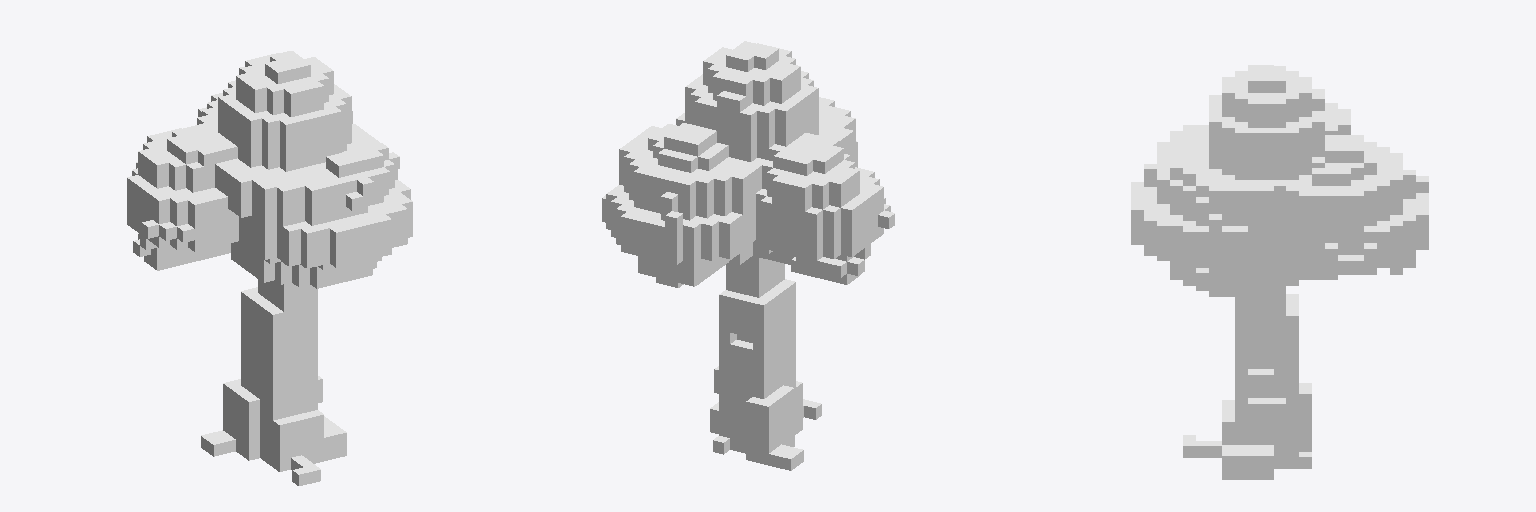
Rendered from Tree0-0.obj.
3 renders of one model, left to right at view 1: azimuth 30°, elevation 25°; view 2: azimuth 150°, elevation 25°; view 3: azimuth 270°, elevation 25°, orthographic.
Parts seen in each view (by area): view 1: object 1; view 2: object 1; view 3: object 1.
Part boxes in pixels (left/top/right/bottom): object 1: left=127, top=51, right=412, bottom=485; object 1: left=602, top=41, right=894, bottom=470; object 1: left=1131, top=65, right=1428, bottom=479.
Bounding box in the file's own units: 2.1 × 3.3 × 2.3.